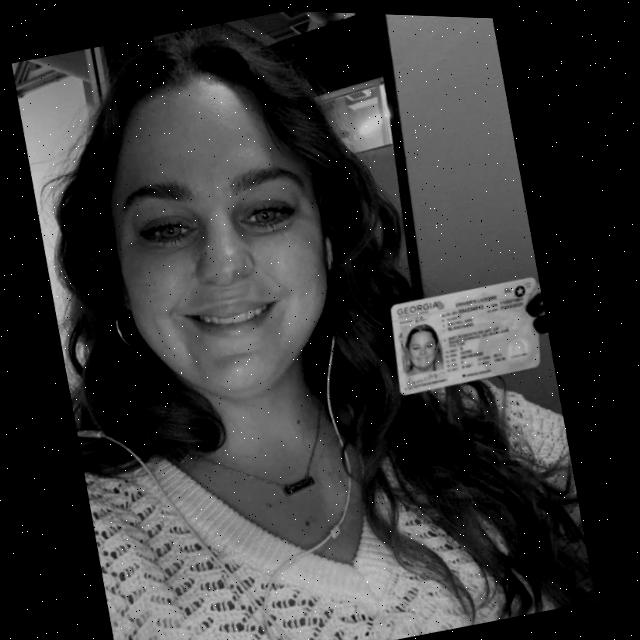card: (392, 278, 540, 395)
